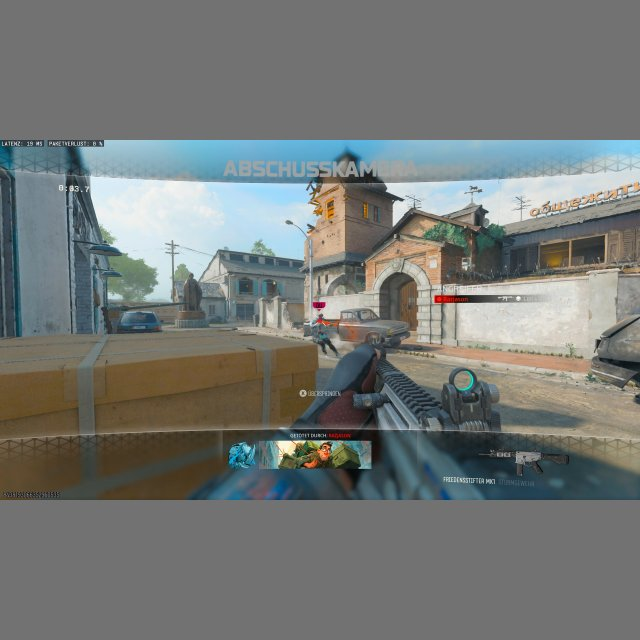player: (308, 313, 338, 356)
